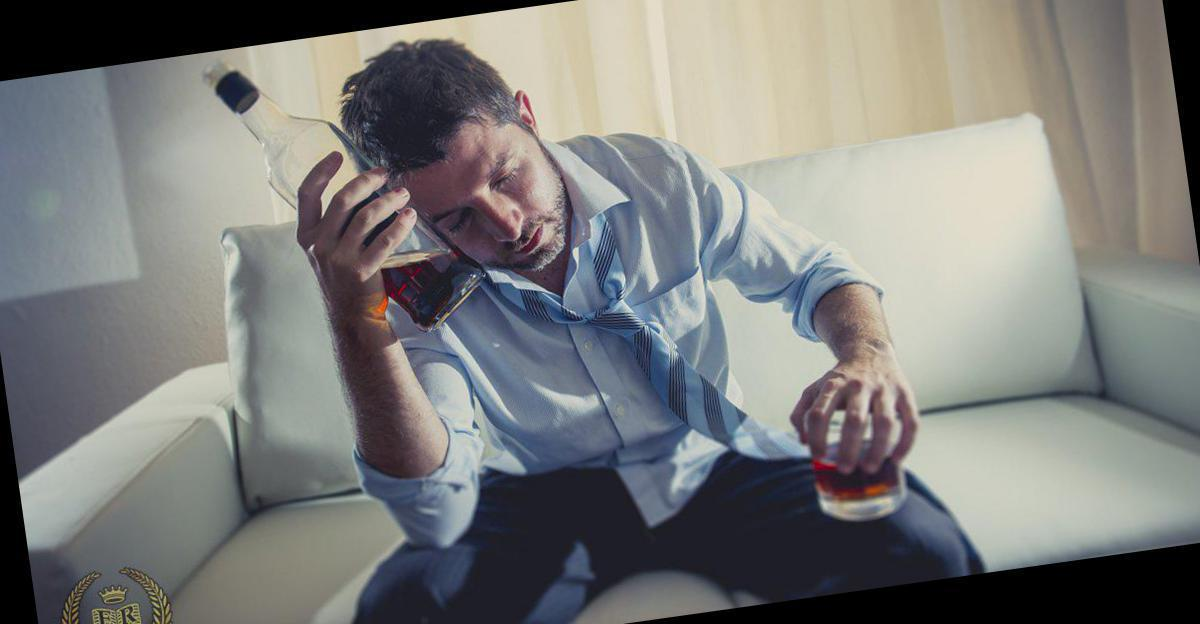Drunk: (402, 139, 568, 274)
